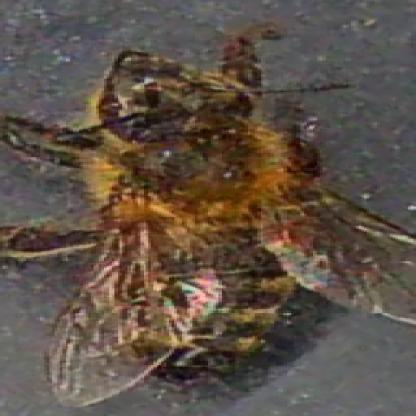bee: (55, 37, 322, 411)
